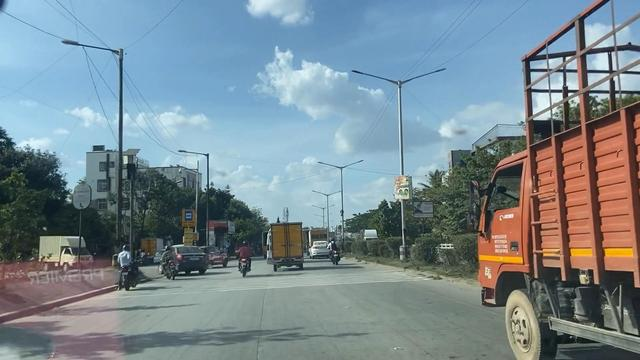HMV: (480, 55, 640, 360), (261, 221, 313, 277)
LMV: (173, 239, 209, 275), (109, 243, 133, 288), (236, 238, 253, 279), (161, 244, 175, 278)
